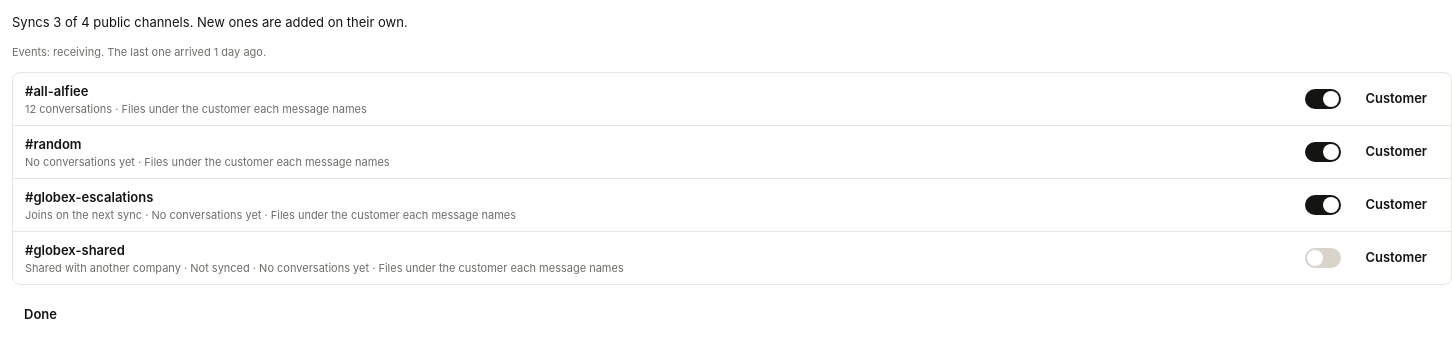
Test: SlackChannelsPanel (frontend Decisions 2 to 4) › clears the earlier status line when the next change is refused (R5)
Check: the text "#random" is shown, box [25,136,82,152]
Click the switch named "Sync #random": coordinates (1323, 152) [1301,134,1345,170]
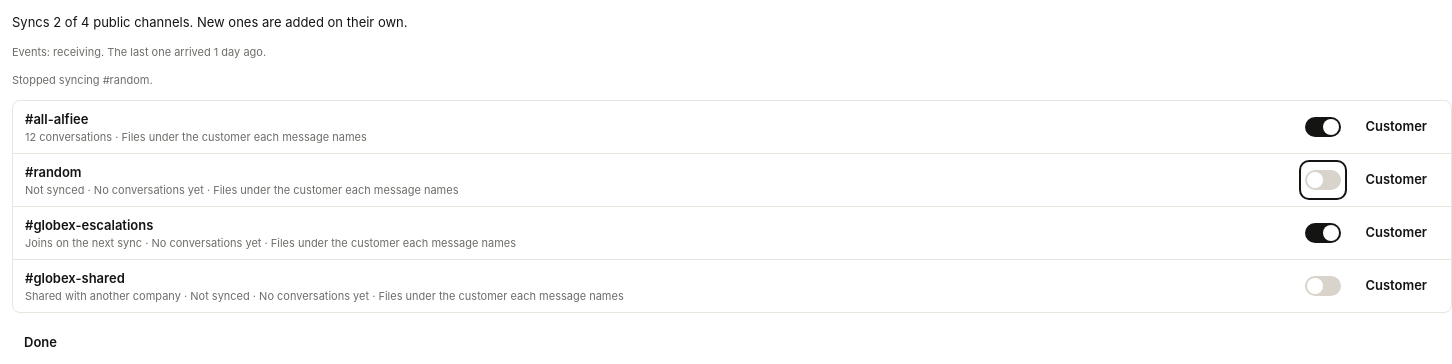
Check: the message reads "Stopped syncing #random.", box [12,73,153,87]
Click the switch named "Sync #all-alfiee": coordinates (1323, 127) [1301,109,1345,145]
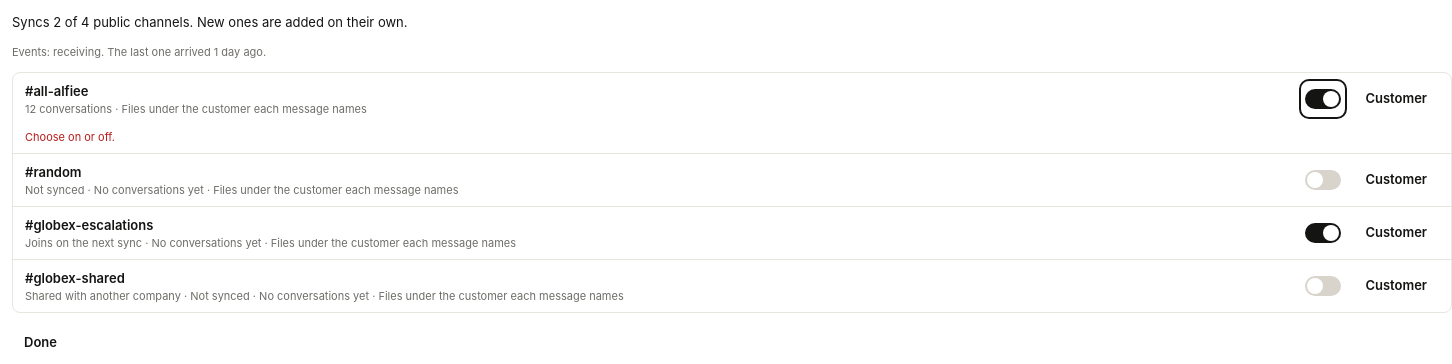
Check: the message "Choose on or off." is shown, box [25,130,115,144]
